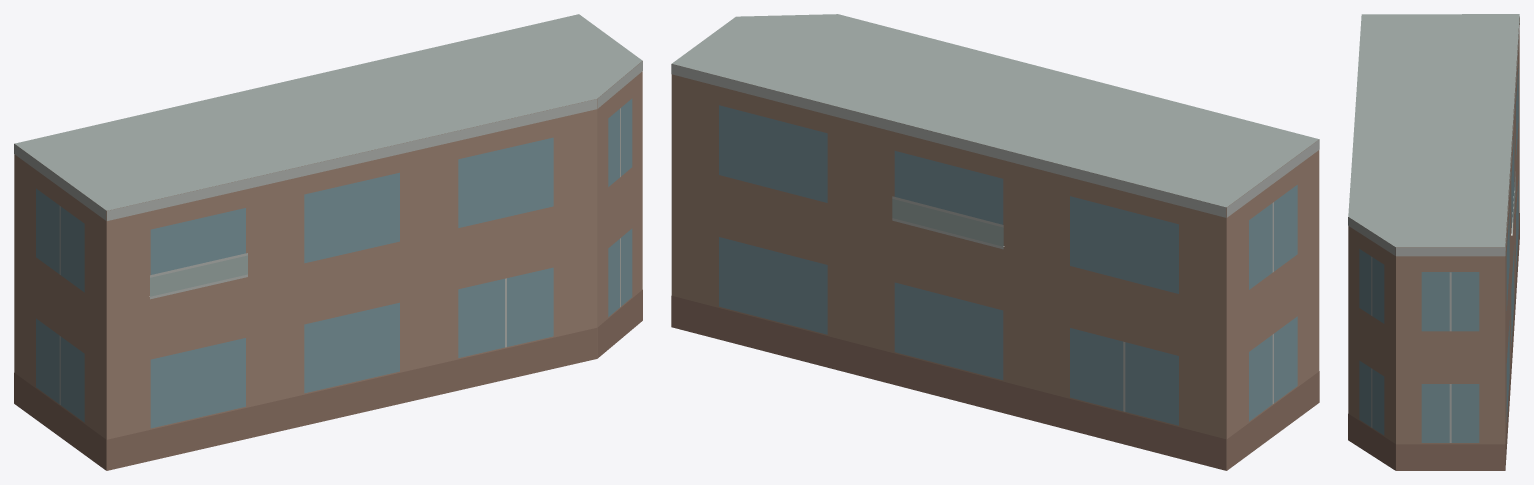
Rendered from survey-upis-32458621.glb.
The picture shows the model from 3 angles, left to right: view 1: azimuth 30°, elevation 25°; view 2: azimuth 150°, elevation 25°; view 3: azimuth 270°, elevation 25°; orthographic projection. The views are drawn at different scales.
Parts seen in each view (by area): view 1: survey-upis-32458621.tmp; view 2: survey-upis-32458621.tmp; view 3: survey-upis-32458621.tmp.
Part boxes in pixels (x1,y1,x2,y2): survey-upis-32458621.tmp: (14, 14, 642, 470); survey-upis-32458621.tmp: (671, 14, 1319, 470); survey-upis-32458621.tmp: (1348, 14, 1519, 470).
Bounding box in the file's own units: 13.68 × 6.1 × 4.25.
